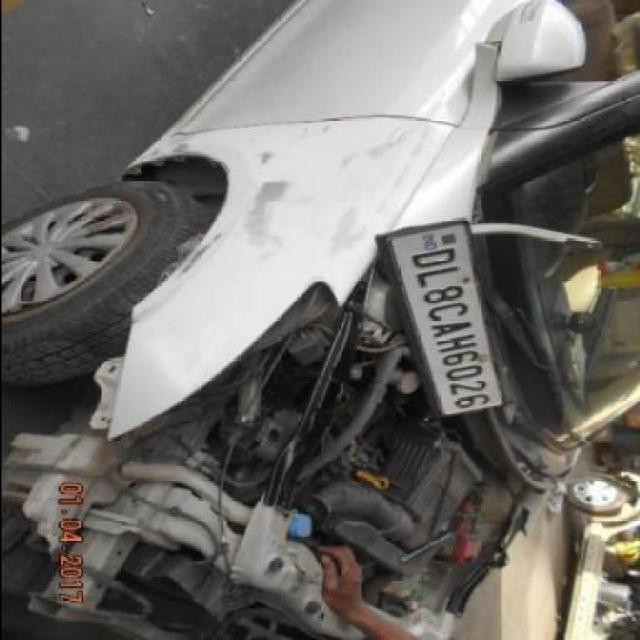damage: (8, 273, 471, 635), (230, 171, 301, 265), (337, 124, 420, 182), (126, 138, 241, 177), (316, 202, 372, 265), (173, 224, 230, 283), (252, 143, 286, 175)
